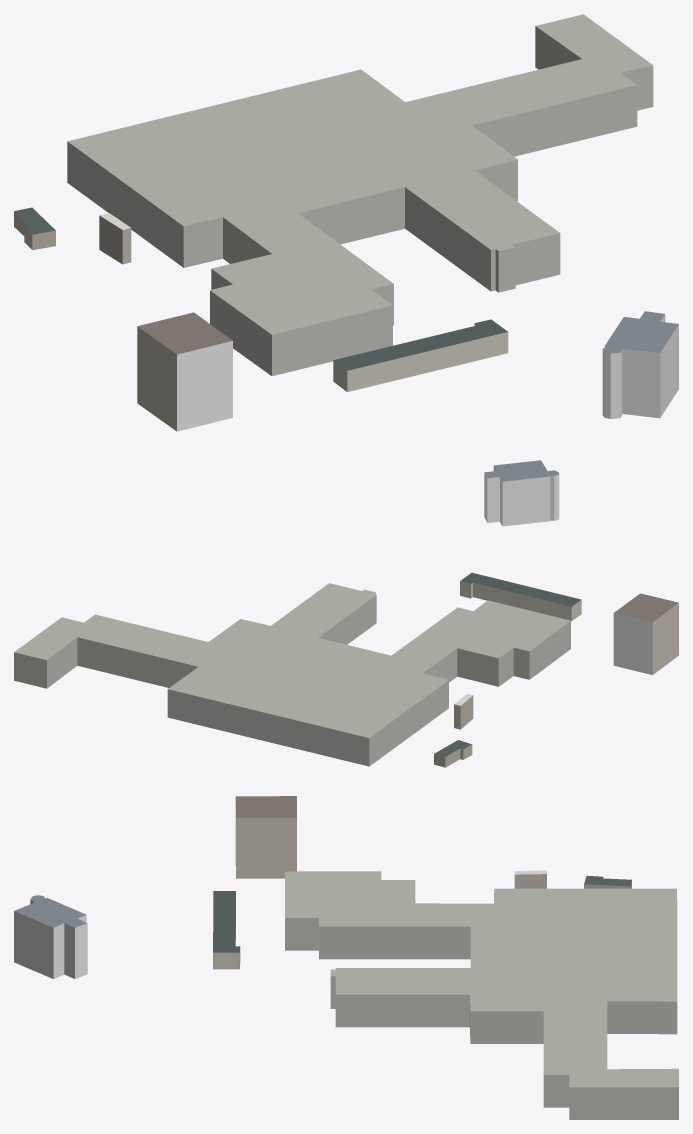
3 renders of one model, top to bottom at view 1: azimuth 30°, elevation 25°; view 2: azimuth 150°, elevation 25°; view 3: azimuth 270°, elevation 25°, orthographic. The views are drawn at different scales.
Parts seen in each view (by area): view 1: tuile; view 2: tuile; view 3: tuile.
Part boxes in pixels (x1,y1,x2,y2): tuile: (14, 14, 678, 431); tuile: (14, 460, 678, 767); tuile: (14, 796, 678, 1119).
Bounding box in the file's own units: 166 × 22.89 × 176.
